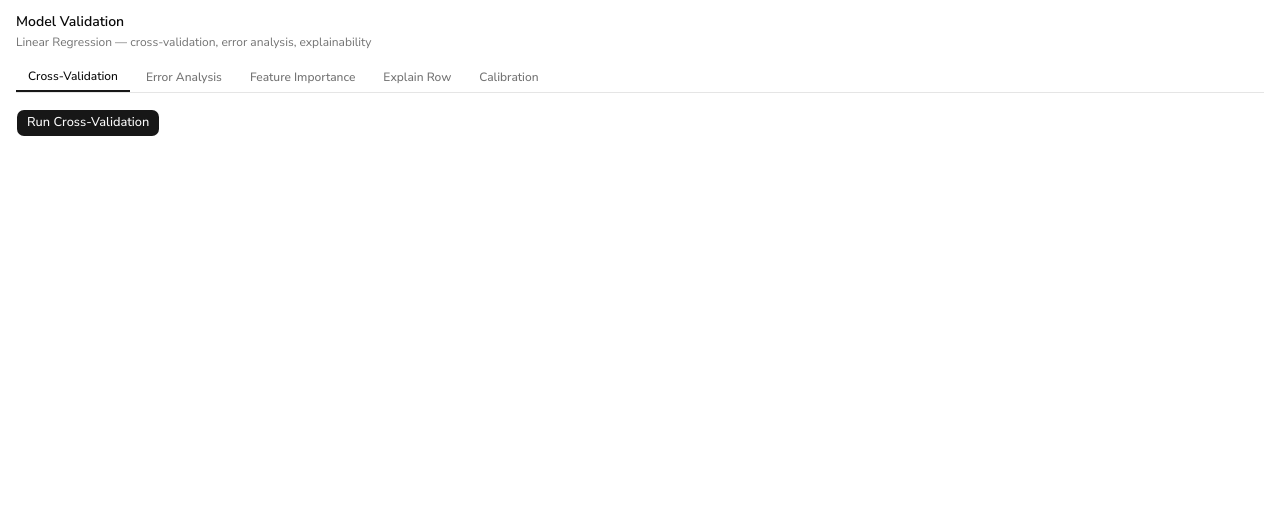
Test: ValidationPanel — confidence badge › shows HIGH confidence badge
The width and height of the screenshot is (1280, 512).
What coordinates should you click on to do the following:
click the tab "Cross-Validation"
I would click on:
 (73, 77)
Its box is [16,62,130,92].
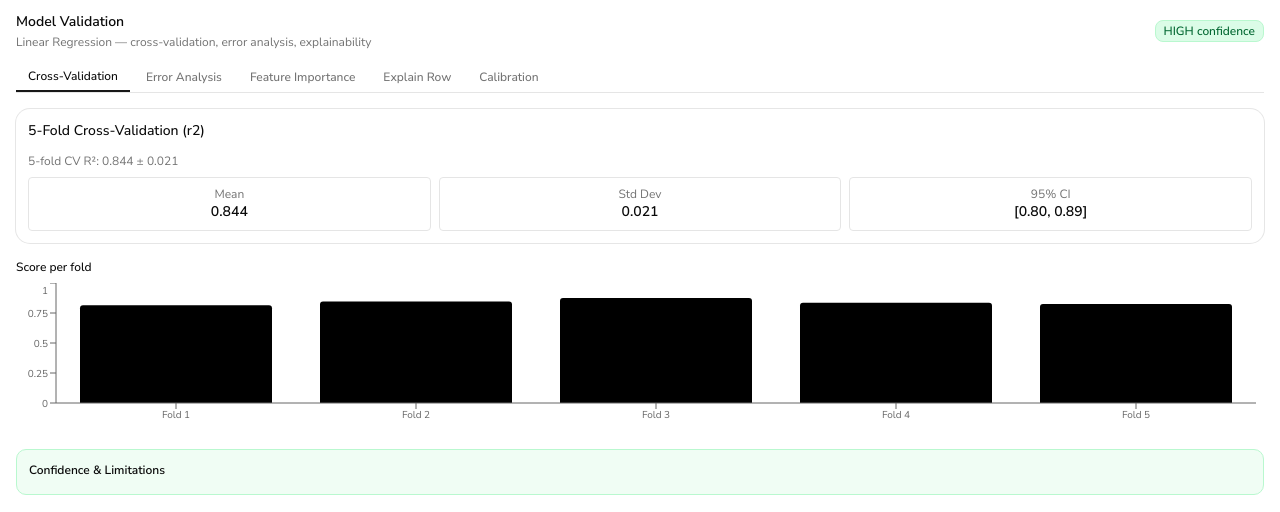
expect the text "HIGH confidence" is shown: met, box [1155,20,1264,42]
